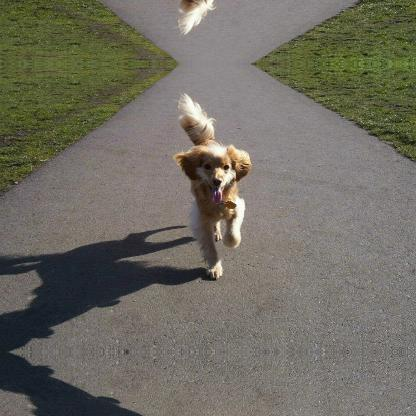Dog: (172, 91, 252, 279)
